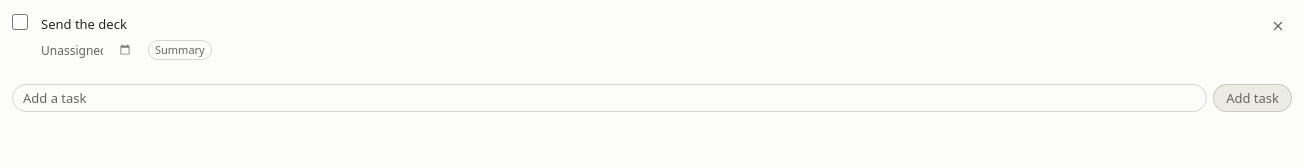
Test: shows a failed save and keeps the typed text
Type "Alex" into the field named "Owner: Send the deck" at [72, 50], box [36,40,108,60]
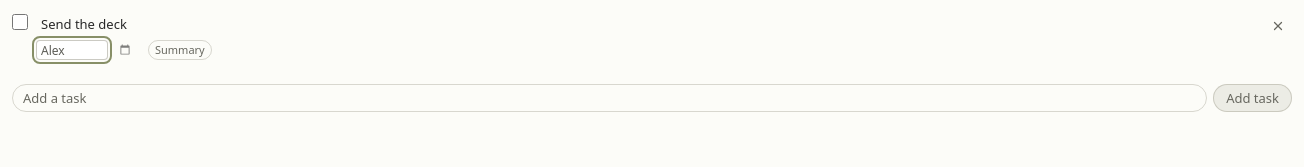
Press Tab
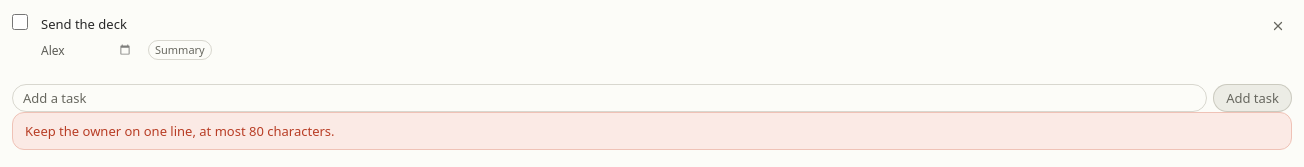
Check: the message shows "owner", box [25,122,334,140]
